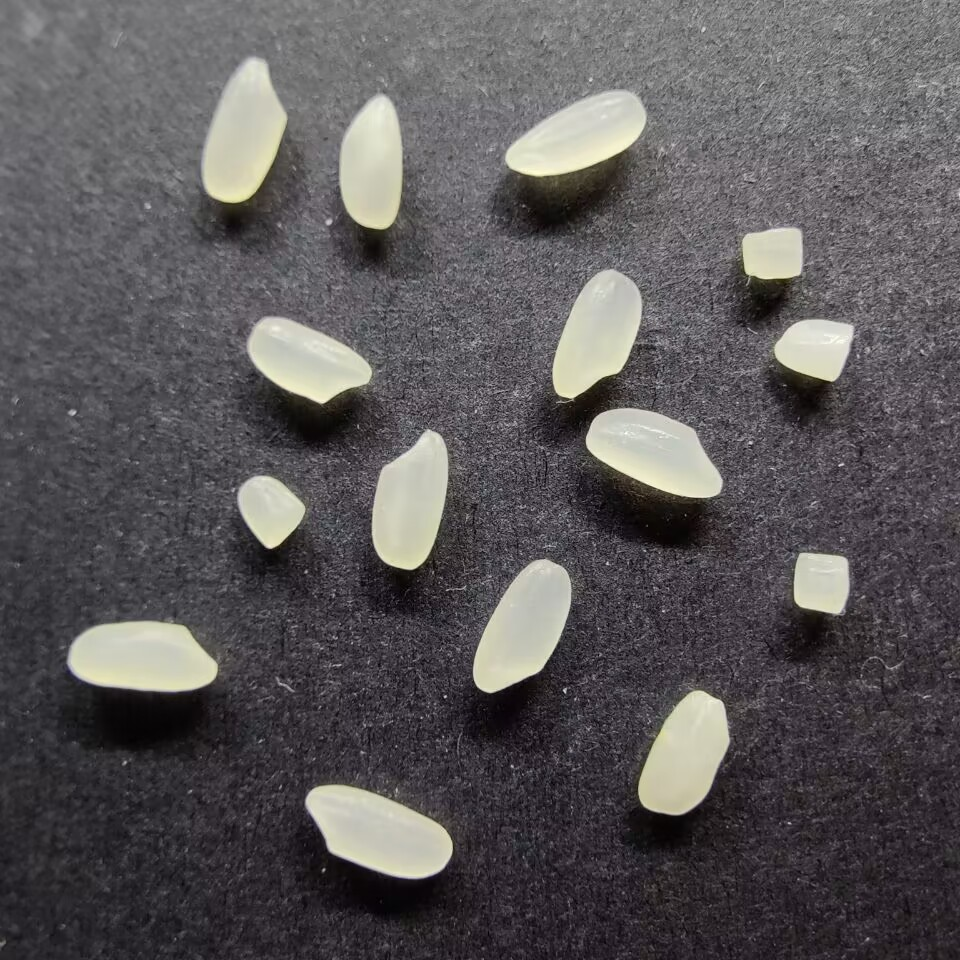broken: (235, 472, 307, 551), (772, 315, 855, 383), (789, 551, 852, 616), (740, 226, 809, 281)
rice: (303, 783, 453, 881), (470, 559, 572, 693), (583, 406, 725, 500), (503, 86, 648, 178), (199, 56, 288, 203), (550, 267, 647, 399), (634, 688, 733, 815), (65, 619, 221, 694), (369, 428, 449, 571), (245, 315, 373, 404), (335, 93, 405, 230)
